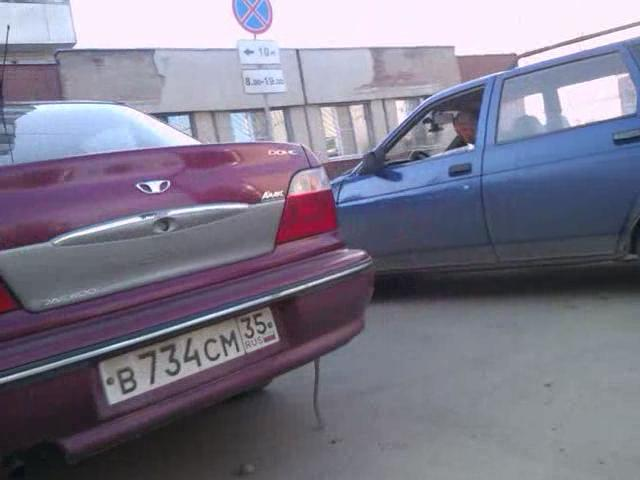car license plate: (101, 302, 281, 409)
